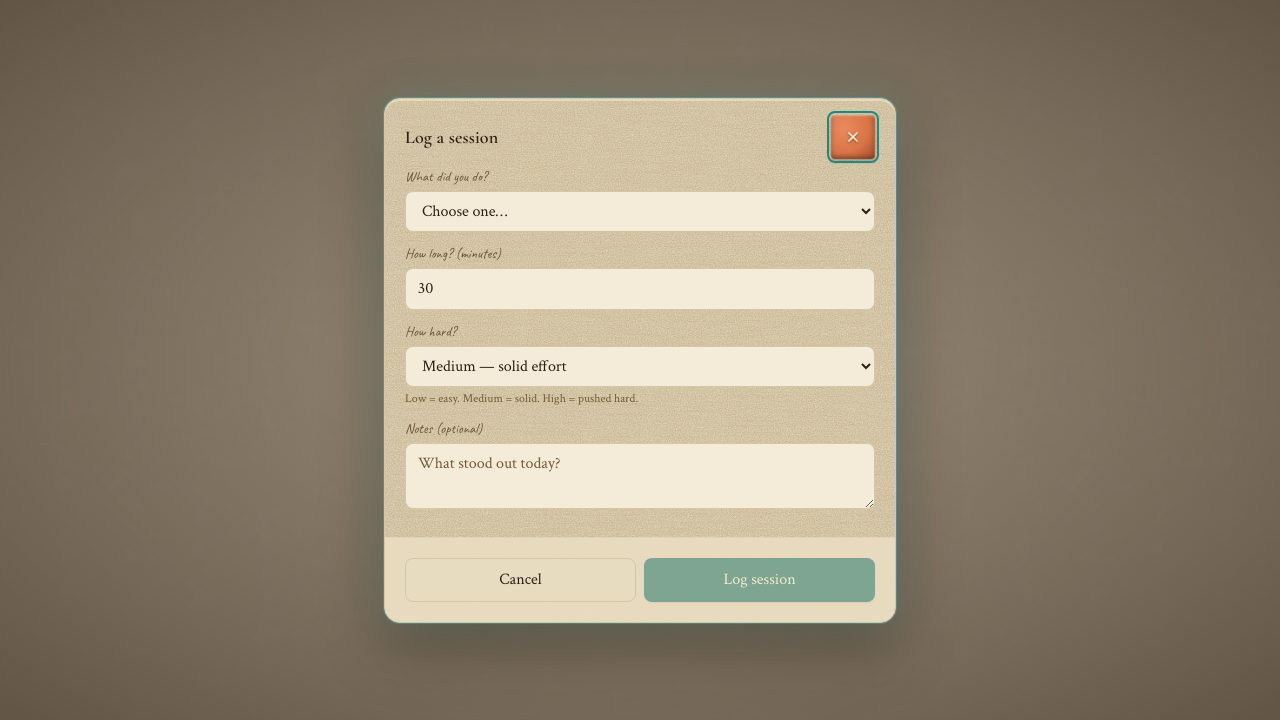
it: MovementSessionLogModal › seeds intensity from the picked type default (yoga → low)
The width and height of the screenshot is (1280, 720).
Select "🧘 Yoga" in the dropdown labelled "What did you do?" at (640, 211), box [405,190,875,232]
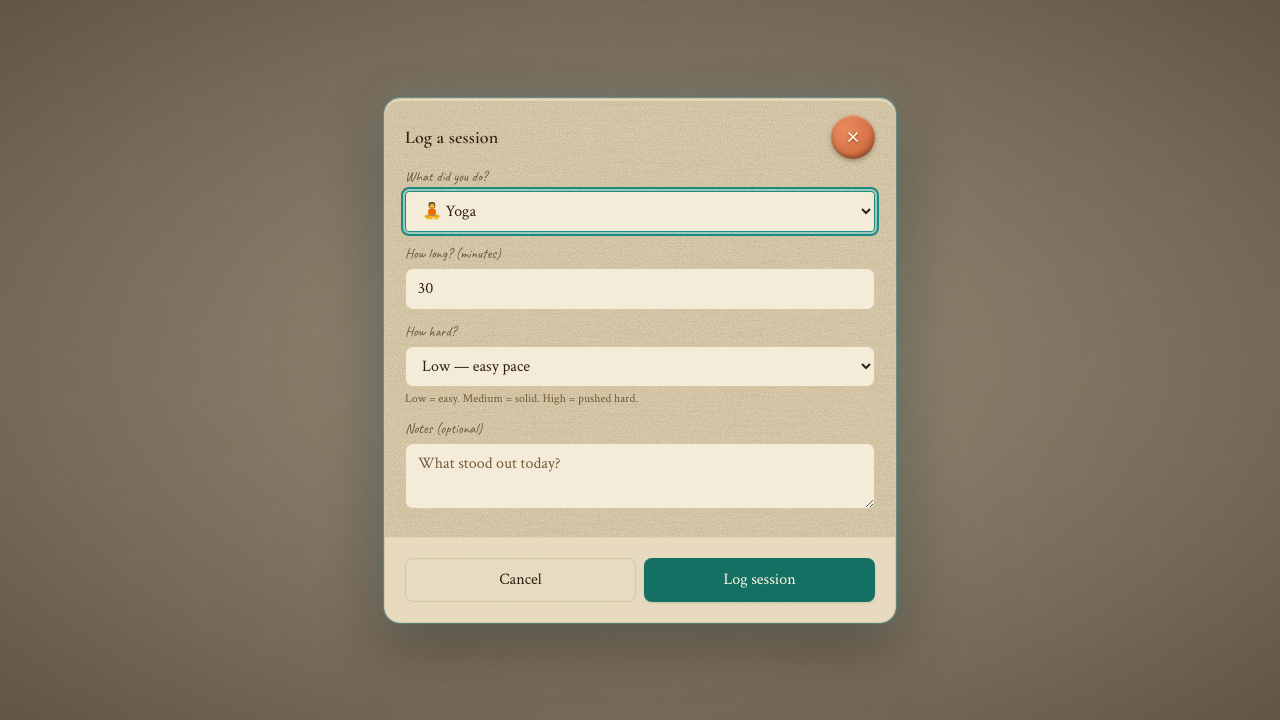
Expected: the dropdown labelled "How hard?" shows "Low — easy pace", [405,346,875,386]
